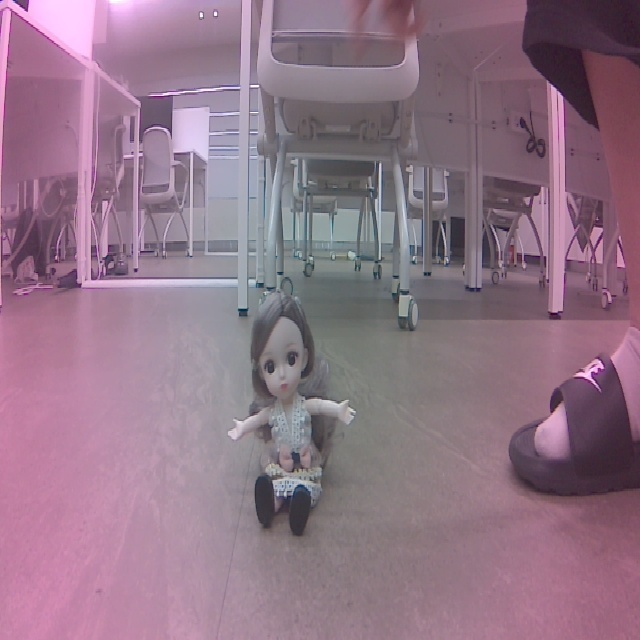장애물: (215, 289, 367, 541)
